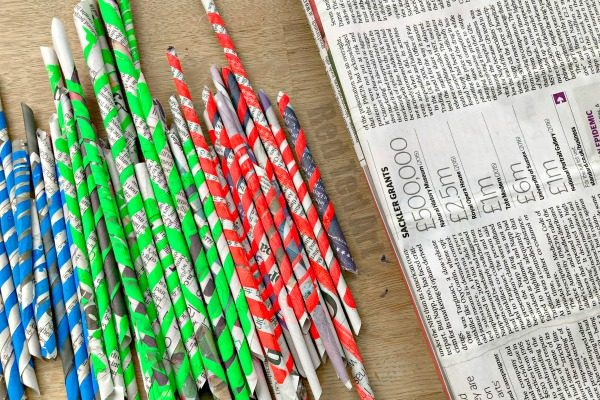news_paper: (310, 1, 598, 400)
